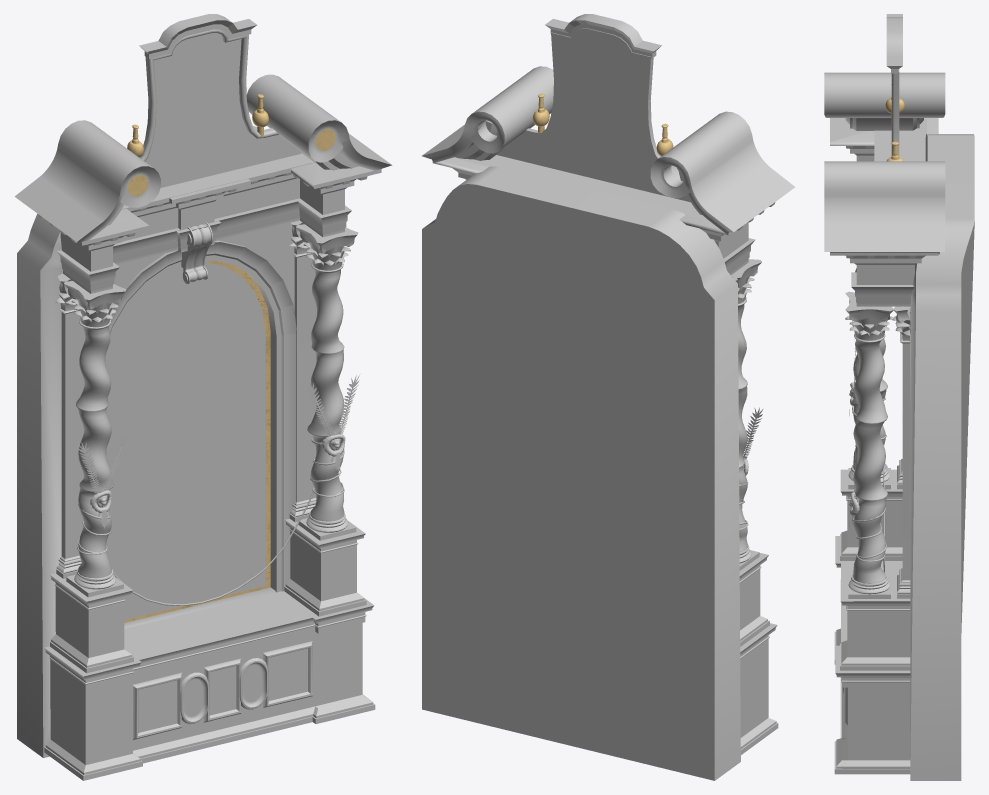
Rendered from Corinthian_Baroque.fbx.
3 views of the same model, side by side, from view 1: azimuth 30°, elevation 25°; view 2: azimuth 150°, elevation 25°; view 3: azimuth 270°, elevation 25° (orthographic). The views are drawn at different scales.
Parts seen in each view (by area): view 1: Corinthian_Baroque; view 2: Corinthian_Baroque; view 3: Corinthian_Baroque.
Boxes of the visible parts, x1,y1,x2,y2 form: Corinthian_Baroque: (14,14,392,780); Corinthian_Baroque: (422,14,795,780); Corinthian_Baroque: (824,14,974,780).
Size of the model in its own units: 290 by 622 by 124.
